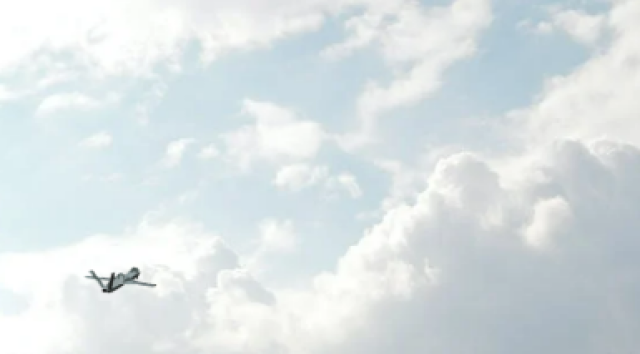military drone: (84, 266, 157, 293)
